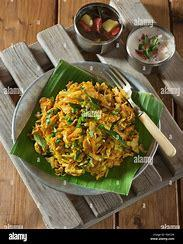Kottu: (36, 62, 153, 193)
